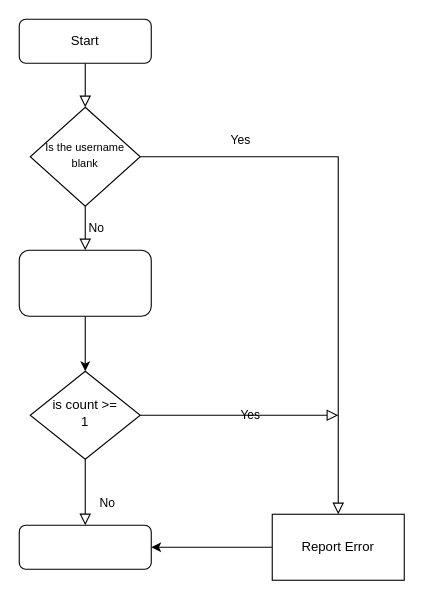
This 424x600 diagram has some shape labels left out. The shapes that lost their labels are listed below. From the top down, each one's box as (x1, y1, x2, y2) in pixels, then its label:
(18, 249, 151, 316): Get count of all usernames that match in database
(18, 524, 151, 569): End
